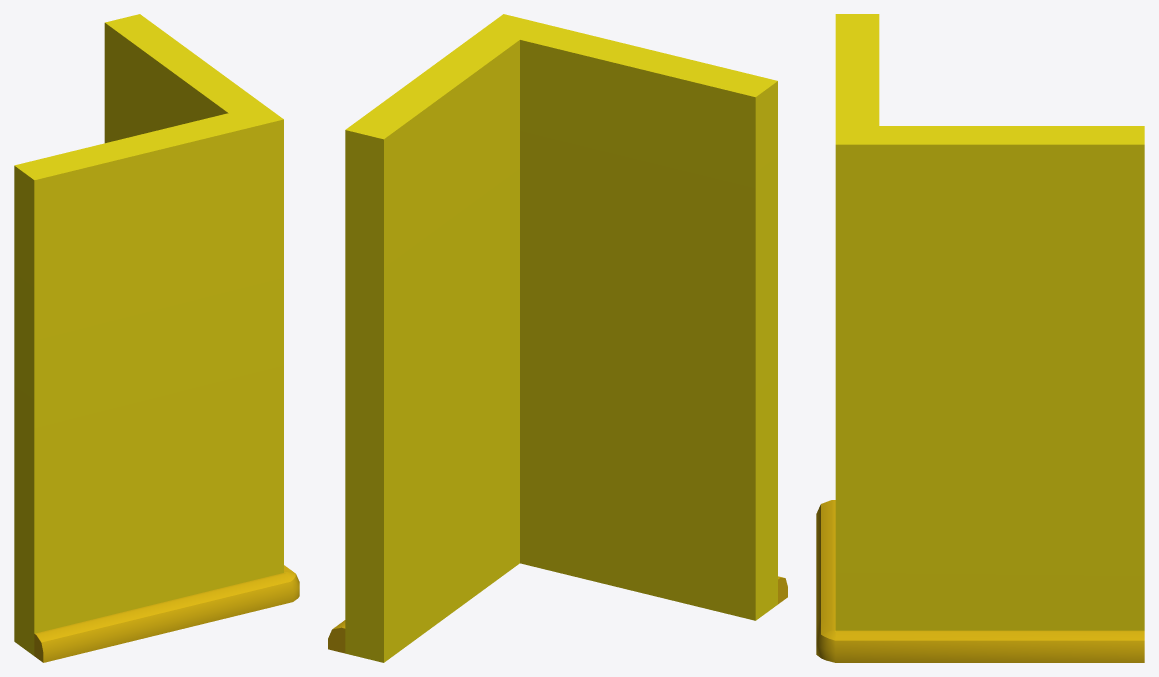
The model's file is Y_WallCorner001.fbx.
The picture shows the model from 3 angles, left to right: view 1: azimuth 30°, elevation 25°; view 2: azimuth 150°, elevation 25°; view 3: azimuth 270°, elevation 25°; orthographic projection. The views are drawn at different scales.
Visible parts, largest first — view 1: WallCorner.003; view 2: WallCorner.003; view 3: WallCorner.003.
Boxes of the visible parts, x1,y1,x2,y2 form: WallCorner.003: (14, 14, 299, 662); WallCorner.003: (328, 14, 787, 662); WallCorner.003: (816, 14, 1144, 662).
Size of the model in its own units: 146 by 250 by 146.
1 material, 1 textured.
